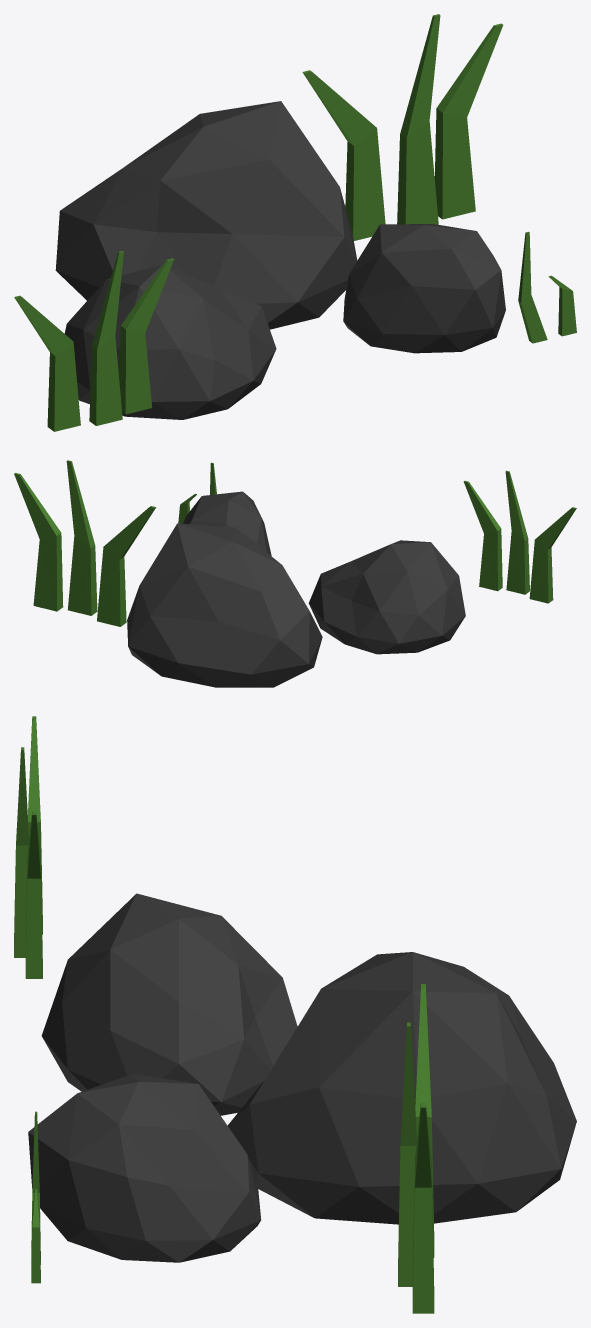
The model's file is stones.dae.
The picture shows the model from 3 angles, top to bottom: view 1: azimuth 30°, elevation 25°; view 2: azimuth 150°, elevation 25°; view 3: azimuth 270°, elevation 25°; orthographic projection. The views are drawn at different scales.
Visible parts, largest first — view 1: Icosphere_001, Icosphere, Icosphere_002, Cube_003, Cube, Cube_002; view 2: Icosphere_001, Icosphere, Cube_003, Cube, Icosphere_002, Cube_002; view 3: Icosphere_001, Icosphere, Icosphere_002, Cube_003, Cube, Cube_002.
Part boxes in pixels (x1,y1,x2,y2): Icosphere_001: (55,101,357,329); Icosphere: (64,264,276,419); Icosphere_002: (343,224,505,353); Cube_003: (302,14,503,240); Cube: (14,251,173,431); Cube_002: (518,231,576,343); Icosphere_001: (127,523,322,687); Icosphere: (308,540,465,654); Cube_003: (14,460,156,626); Cube: (463,470,576,603); Icosphere_002: (183,491,271,555); Cube_002: (178,462,216,523); Icosphere_001: (227,952,576,1224); Icosphere: (41,893,297,1115); Icosphere_002: (28,1074,261,1262); Cube_003: (398,984,434,1313); Cube: (14,716,42,978); Cube_002: (31,1111,40,1283).
Bounding box in the file's own units: 6.85 × 4.09 × 2.24.
